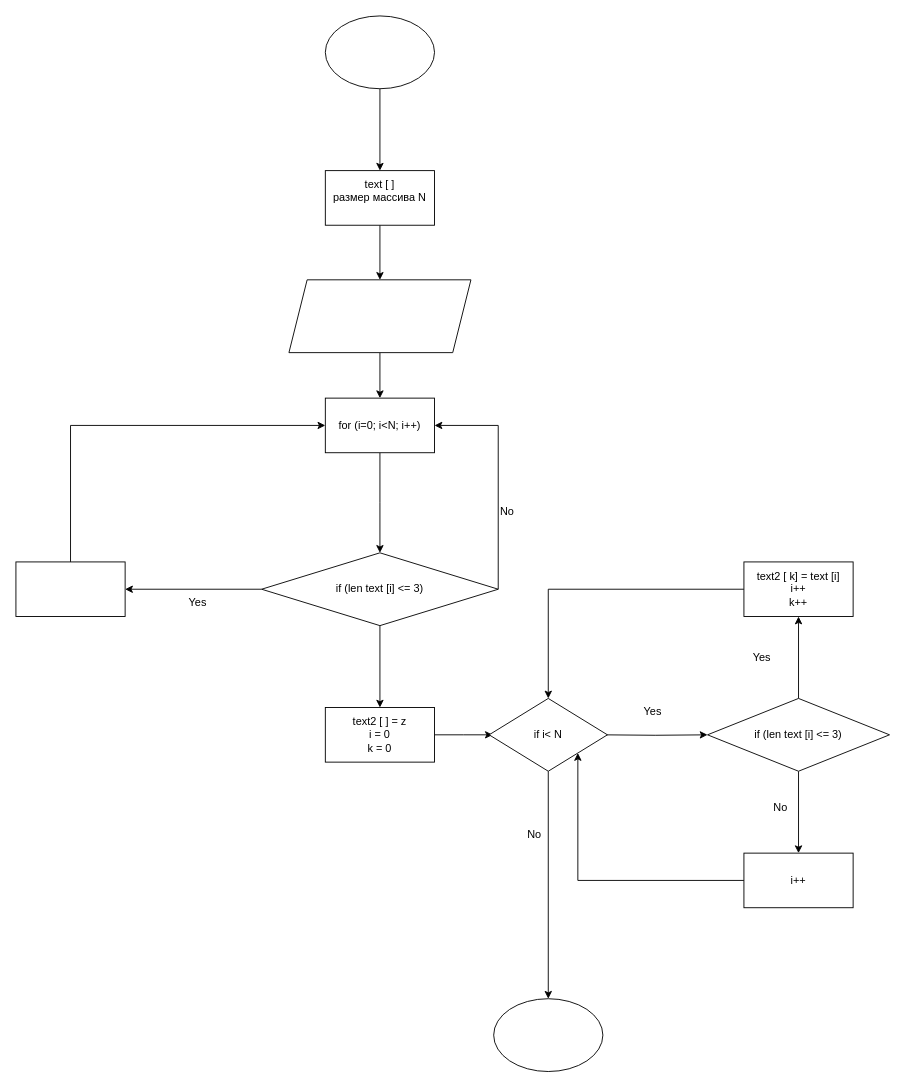
This 905x1087 diagram has some shape labels left out. The shapes that lost their labels are listed below. From the top down, each one's box as (x1, y1, x2, y2) in pixels, then its label:
(324, 15, 435, 89): Начало
(288, 279, 471, 353): ввод N ввод строк массива (количество строк равно N) z = 0
(15, 561, 125, 617): z++
(493, 998, 603, 1072): конец
